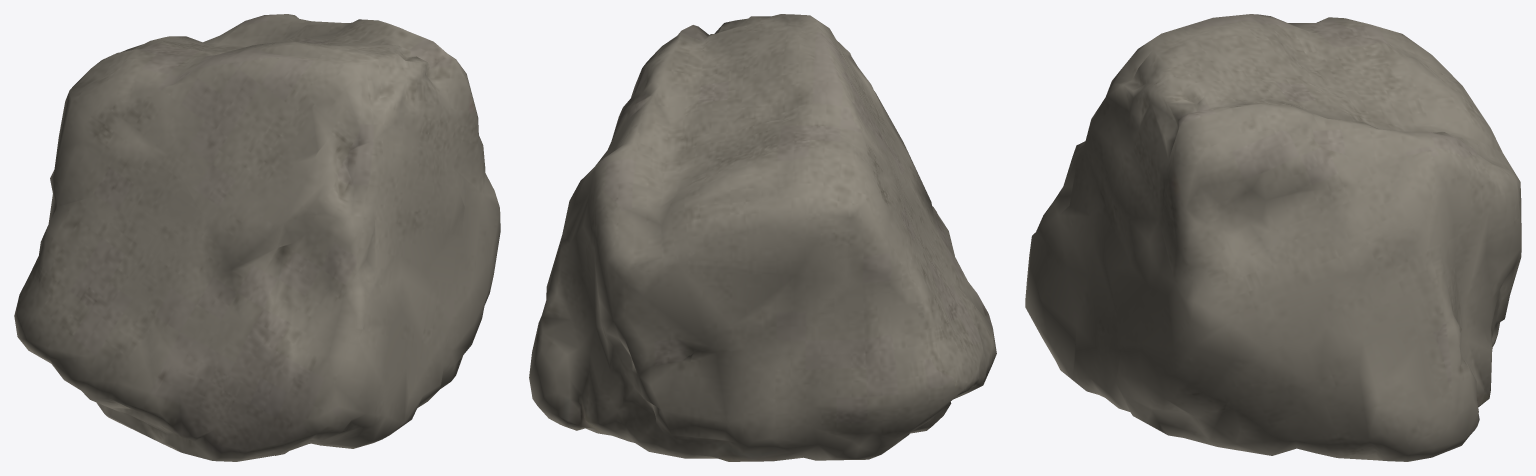
Rendered from moon_rock_02.glb.
3 renders of one model, left to right at view 1: azimuth 30°, elevation 25°; view 2: azimuth 150°, elevation 25°; view 3: azimuth 270°, elevation 25°, orthographic. The views are drawn at different scales.
Parts seen in each view (by area): view 1: moon_rock_02_LOD0; view 2: moon_rock_02_LOD0; view 3: moon_rock_02_LOD0.
Part boxes in pixels (left/top/right/bottom): moon_rock_02_LOD0: left=14, top=14, right=500, bottom=461; moon_rock_02_LOD0: left=529, top=14, right=996, bottom=461; moon_rock_02_LOD0: left=1025, top=14, right=1521, bottom=461.
Size of the model in its own units: 0.2465 by 0.2019 by 0.2513.
Materials: 1 (1 with a texture image).
